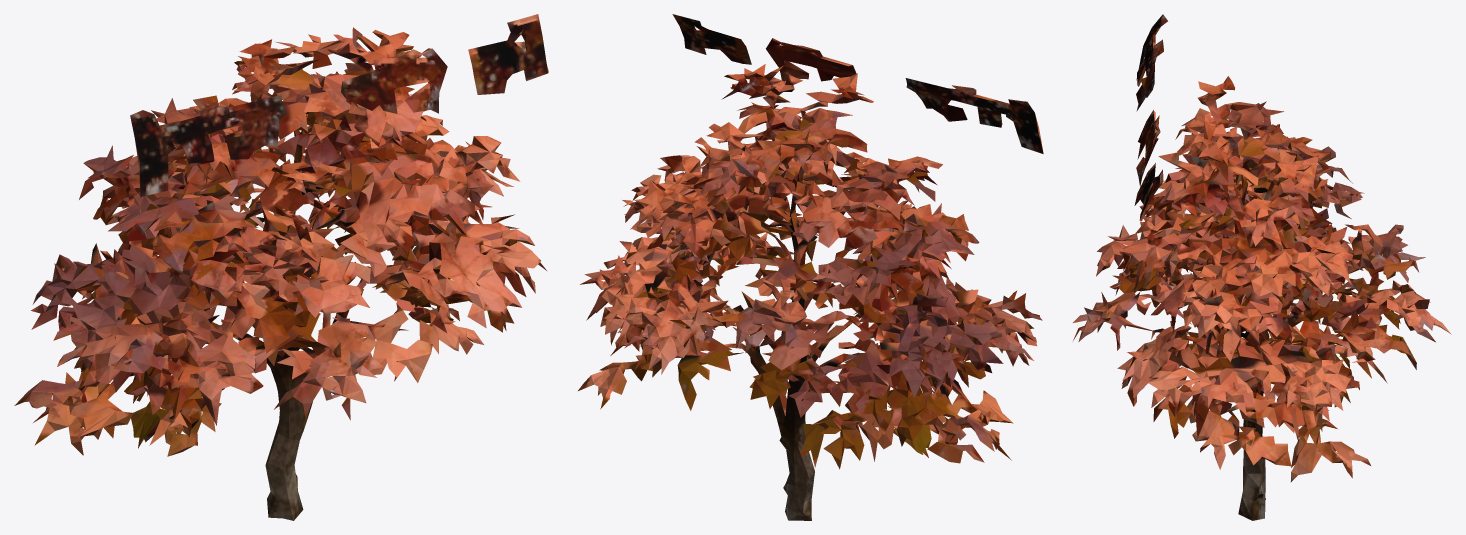
The model's file is traveler_env_coast_cakon_maple_miniature_00001_.glb.
3 views of the same model, side by side, from view 1: azimuth 30°, elevation 25°; view 2: azimuth 150°, elevation 25°; view 3: azimuth 270°, elevation 25° (orthographic). The views are drawn at different scales.
Parts seen in each view (by area): view 1: temp_mesh.ply; view 2: temp_mesh.ply; view 3: temp_mesh.ply.
Boxes of the visible parts, <box> form: temp_mesh.ply: <box>14,14,548,520</box>; temp_mesh.ply: <box>578,14,1043,520</box>; temp_mesh.ply: <box>1073,14,1451,520</box>.
Bounding box in the file's own units: 1.95 × 1.92 × 1.58.
1 material, 1 textured.
